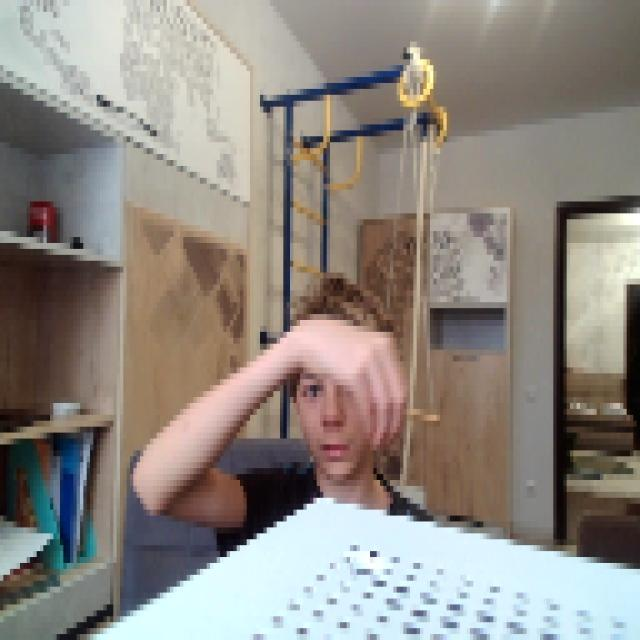left_click: (300, 302, 407, 444)
